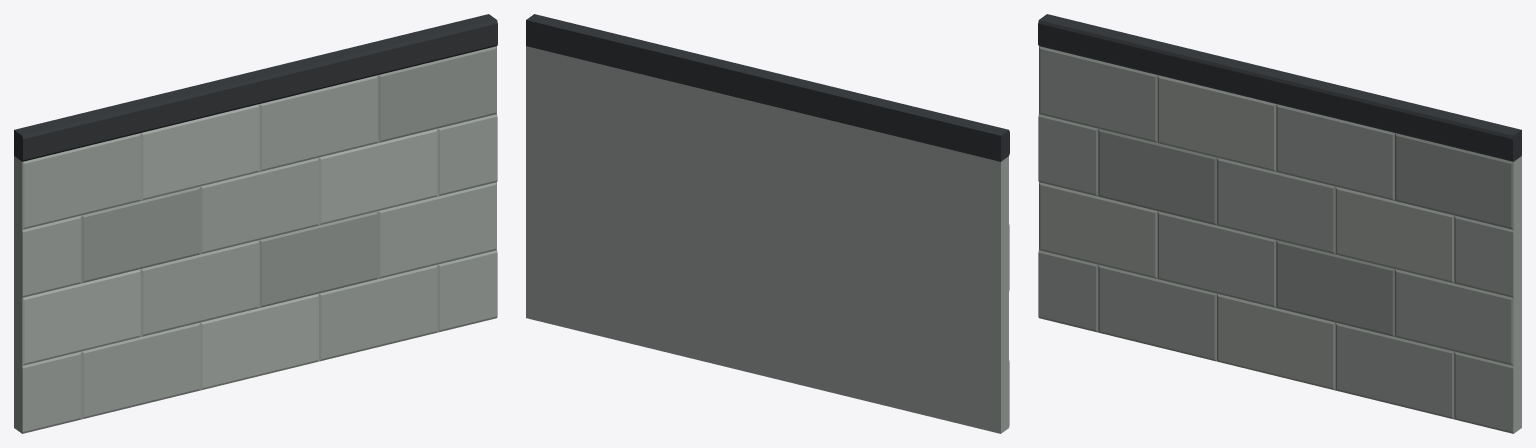
The model's file is Wall_Interior_01.glb.
The picture shows the model from 3 angles, left to right: view 1: azimuth 30°, elevation 25°; view 2: azimuth 150°, elevation 25°; view 3: azimuth 330°, elevation 25°; orthographic projection.
Parts seen in each view (by area): view 1: SM_Env_Wall_Interior_01; view 2: SM_Env_Wall_Interior_01; view 3: SM_Env_Wall_Interior_01.
Boxes of the visible parts, <box> form: SM_Env_Wall_Interior_01: <box>14,14,497,433</box>; SM_Env_Wall_Interior_01: <box>526,14,1009,433</box>; SM_Env_Wall_Interior_01: <box>1038,14,1521,433</box>.
Bounding box in the file's own units: 5 × 3 × 0.1636.
Materials: 1 (1 with a texture image).
